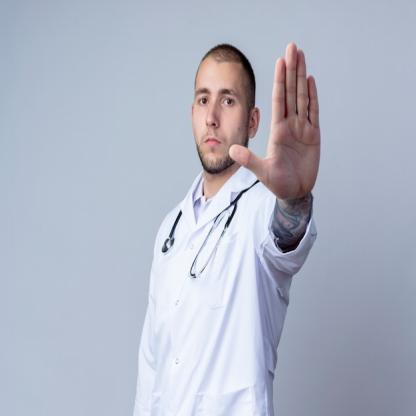stop: (227, 40, 323, 206)
